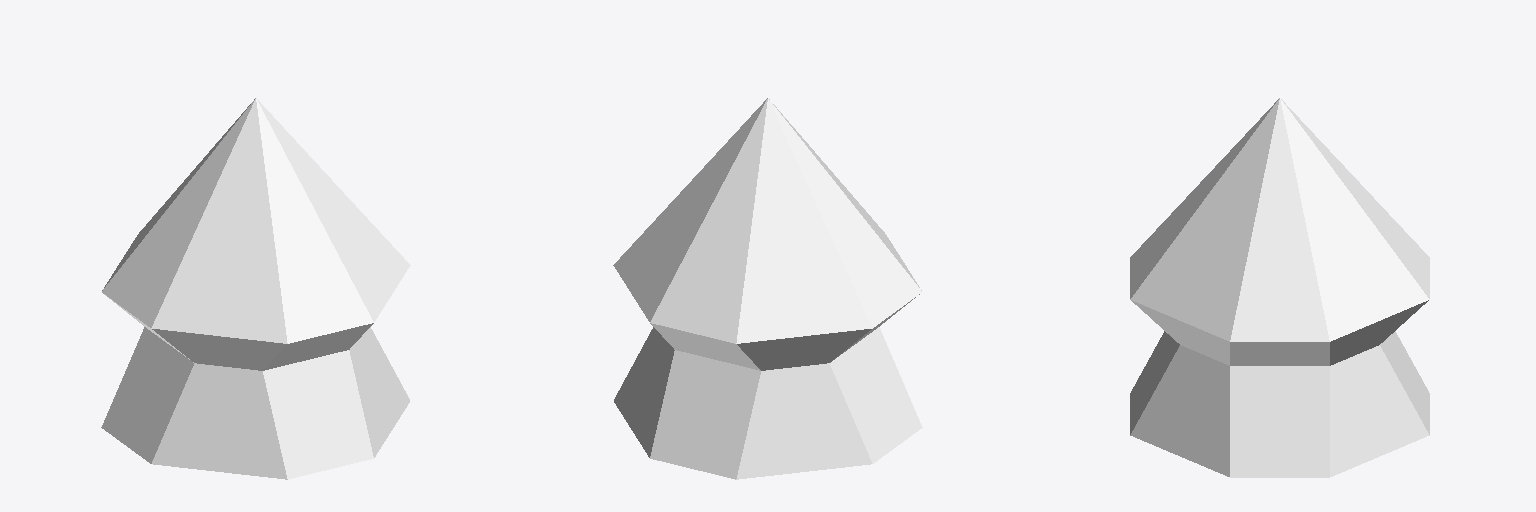
File: mechaturd.obj
3 views of the same model, side by side, from view 1: azimuth 30°, elevation 25°; view 2: azimuth 150°, elevation 25°; view 3: azimuth 270°, elevation 25° (orthographic).
Parts seen in each view (by area): view 1: mechashit1; view 2: mechashit1; view 3: mechashit1.
Part boxes in pixels (bbox=[...]): mechashit1: bbox=[101, 98, 410, 479]; mechashit1: bbox=[613, 98, 922, 479]; mechashit1: bbox=[1130, 98, 1429, 477].
Size of the model in its own units: 1.5 by 1.75 by 1.5.